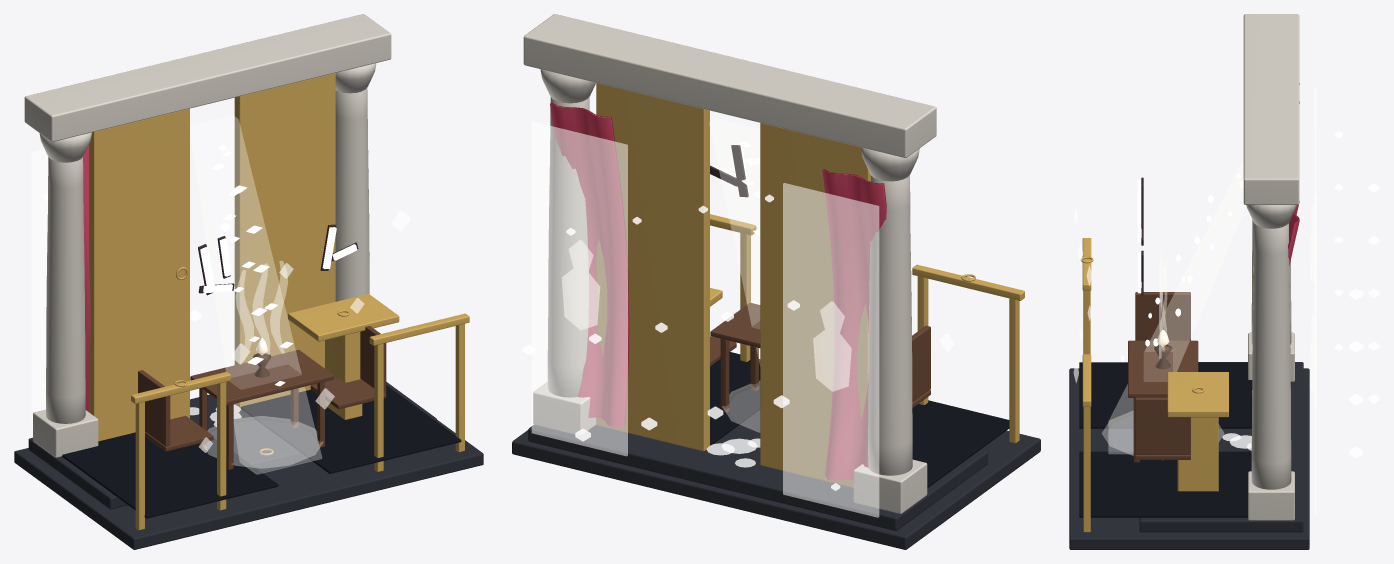
The model's file is webtoon-heathaze-calm-incense-wisp-v27.glb.
3 renders of one model, left to right at view 1: azimuth 30°, elevation 25°; view 2: azimuth 150°, elevation 25°; view 3: azimuth 270°, elevation 25°, orthographic. The views are drawn at different scales.
Parts seen in each view (by area): view 1: Articulated_V27Stage1_CalmWisp_DoorsAndIkRig, V27Stage1_CalmWisp_PortalColonnade, Volumetric_V27Stage1_CalmWisp_GodRaySlit, V27Stage1_CalmWisp_DatumDeck, ShadowDrift_V27Stage1_CalmWisp_UmbraMask, Aftermath_V27Stage1_CalmWisp_DatumProps, HalfMirror_V27Stage1_CalmWisp_FresnelReflection, AftermathDust_V27Stage1_CalmWisp_PlumeLobes, ThermalHaze_V27Stage1_CalmWisp_ConvectiveRibbons, ZDepthSFX_V27Stage1_CalmWisp_GlyphCore, WindDrape_V27Stage1_CalmWisp_CatenaryPair, Atmospheric_V27Stage1_CalmWisp_FgBokehLayer (+2 smaller); view 2: Articulated_V27Stage1_CalmWisp_DoorsAndIkRig, HalfMirror_V27Stage1_CalmWisp_FresnelReflection, V27Stage1_CalmWisp_PortalColonnade, V27Stage1_CalmWisp_DatumDeck, WindDrape_V27Stage1_CalmWisp_CatenaryPair, ShadowDrift_V27Stage1_CalmWisp_UmbraMask, Volumetric_V27Stage1_CalmWisp_GodRaySlit, Aftermath_V27Stage1_CalmWisp_DatumProps, Weather_V27Stage1_CalmWisp_ExteriorOccluded, AftermathDust_V27Stage1_CalmWisp_PlumeLobes, Weather_V27Stage1_CalmWisp_IndoorWetRipples, ZDepthSFX_V27Stage1_CalmWisp_ShadowPlate; view 3: V27Stage1_CalmWisp_PortalColonnade, V27Stage1_CalmWisp_DatumDeck, ShadowDrift_V27Stage1_CalmWisp_UmbraMask, Aftermath_V27Stage1_CalmWisp_DatumProps, Articulated_V27Stage1_CalmWisp_DoorsAndIkRig, Volumetric_V27Stage1_CalmWisp_GodRaySlit, HalfMirror_V27Stage1_CalmWisp_FresnelReflection, Weather_V27Stage1_CalmWisp_ExteriorOccluded, AftermathDust_V27Stage1_CalmWisp_PlumeLobes, ThermalHaze_V27Stage1_CalmWisp_ConvectiveRibbons, ZDepthSFX_V27Stage1_CalmWisp_GlyphCore, Atmospheric_V27Stage1_CalmWisp_MidMotes.
Boxes of the visible parts, box(x1,y1,x2,y2) form: Articulated_V27Stage1_CalmWisp_DoorsAndIkRig: box(89, 73, 469, 530); V27Stage1_CalmWisp_PortalColonnade: box(24, 14, 391, 457); Volumetric_V27Stage1_CalmWisp_GodRaySlit: box(190, 115, 321, 474); V27Stage1_CalmWisp_DatumDeck: box(14, 382, 483, 549); ShadowDrift_V27Stage1_CalmWisp_UmbraMask: box(62, 385, 461, 518); Aftermath_V27Stage1_CalmWisp_DatumProps: box(138, 326, 386, 469); HalfMirror_V27Stage1_CalmWisp_FresnelReflection: box(31, 149, 48, 428); AftermathDust_V27Stage1_CalmWisp_PlumeLobes: box(207, 416, 322, 468); ThermalHaze_V27Stage1_CalmWisp_ConvectiveRibbons: box(236, 261, 287, 354); ZDepthSFX_V27Stage1_CalmWisp_GlyphCore: box(200, 227, 357, 293); WindDrape_V27Stage1_CalmWisp_CatenaryPair: box(83, 145, 90, 411); Atmospheric_V27Stage1_CalmWisp_FgBokehLayer: box(199, 210, 410, 452); Articulated_V27Stage1_CalmWisp_DoorsAndIkRig: box(596, 83, 1024, 487); HalfMirror_V27Stage1_CalmWisp_FresnelReflection: box(531, 121, 879, 517); V27Stage1_CalmWisp_PortalColonnade: box(523, 14, 936, 513); V27Stage1_CalmWisp_DatumDeck: box(512, 410, 1040, 549); WindDrape_V27Stage1_CalmWisp_CatenaryPair: box(550, 102, 886, 480); ShadowDrift_V27Stage1_CalmWisp_UmbraMask: box(710, 352, 1009, 488); Volumetric_V27Stage1_CalmWisp_GodRaySlit: box(709, 119, 759, 363); Aftermath_V27Stage1_CalmWisp_DatumProps: box(710, 302, 930, 412); Weather_V27Stage1_CalmWisp_ExteriorOccluded: box(522, 194, 840, 490); AftermathDust_V27Stage1_CalmWisp_PlumeLobes: box(722, 381, 759, 432); Weather_V27Stage1_CalmWisp_IndoorWetRipples: box(706, 438, 760, 467); ZDepthSFX_V27Stage1_CalmWisp_ShadowPlate: box(710, 145, 748, 197); V27Stage1_CalmWisp_PortalColonnade: box(1243, 14, 1299, 520); V27Stage1_CalmWisp_DatumDeck: box(1069, 362, 1309, 549); ShadowDrift_V27Stage1_CalmWisp_UmbraMask: box(1079, 362, 1252, 517); Aftermath_V27Stage1_CalmWisp_DatumProps: box(1128, 292, 1198, 462); Articulated_V27Stage1_CalmWisp_DoorsAndIkRig: box(1080, 238, 1253, 532); Volumetric_V27Stage1_CalmWisp_GodRaySlit: box(1108, 160, 1245, 453); HalfMirror_V27Stage1_CalmWisp_FresnelReflection: box(1310, 87, 1316, 513); Weather_V27Stage1_CalmWisp_ExteriorOccluded: box(1334, 131, 1379, 457); AftermathDust_V27Stage1_CalmWisp_PlumeLobes: box(1102, 411, 1224, 455); ThermalHaze_V27Stage1_CalmWisp_ConvectiveRibbons: box(1159, 249, 1166, 358); ZDepthSFX_V27Stage1_CalmWisp_GlyphCore: box(1137, 180, 1141, 293); Atmospheric_V27Stage1_CalmWisp_MidMotes: box(1121, 173, 1243, 361).
Size of the model in its own units: 2.76 by 2.78 by 2.12.
